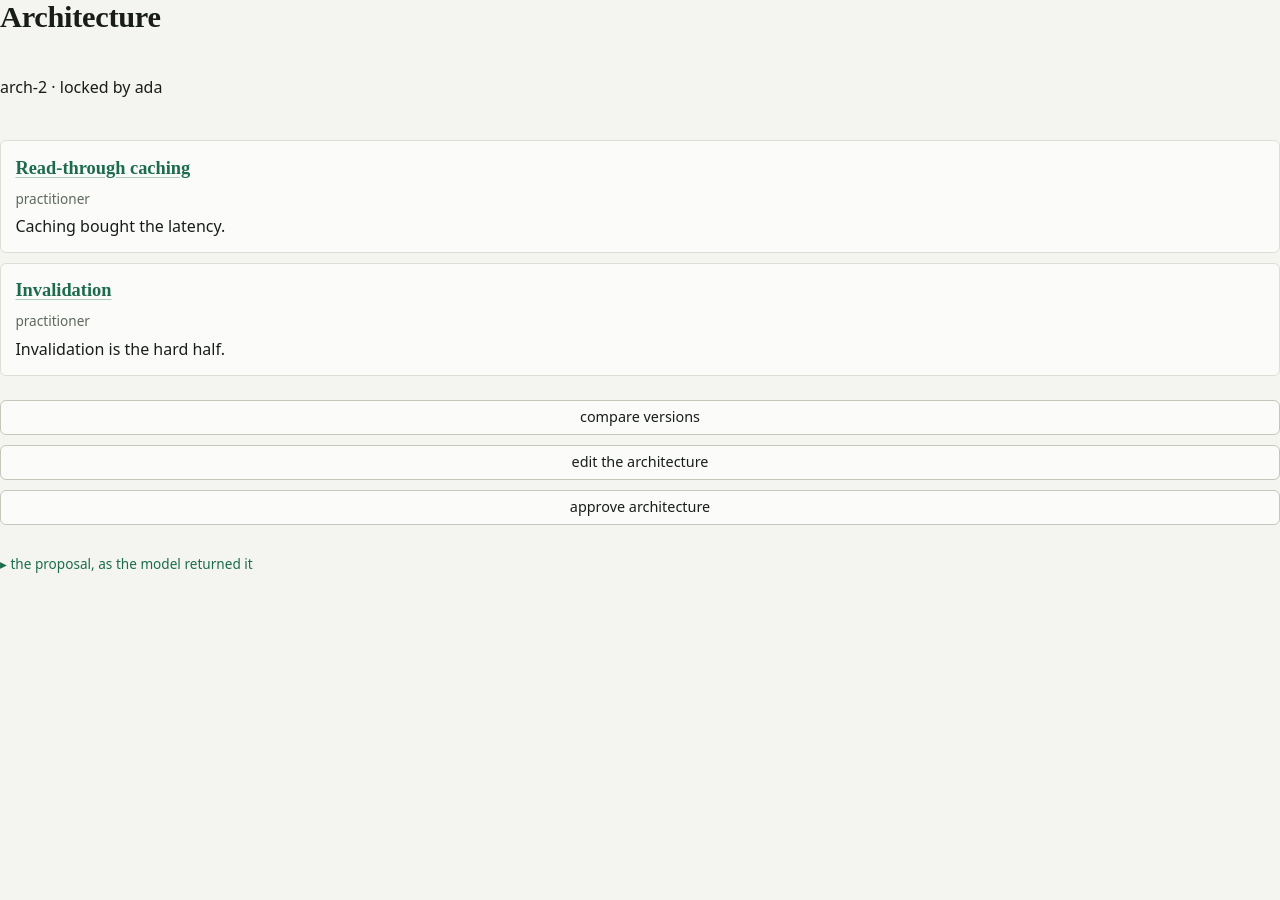
the architecture board › lets an earlier version be compared rather than only listed
Click the button "compare versions": {"x": 640, "y": 417} [0, 400, 1279, 435]
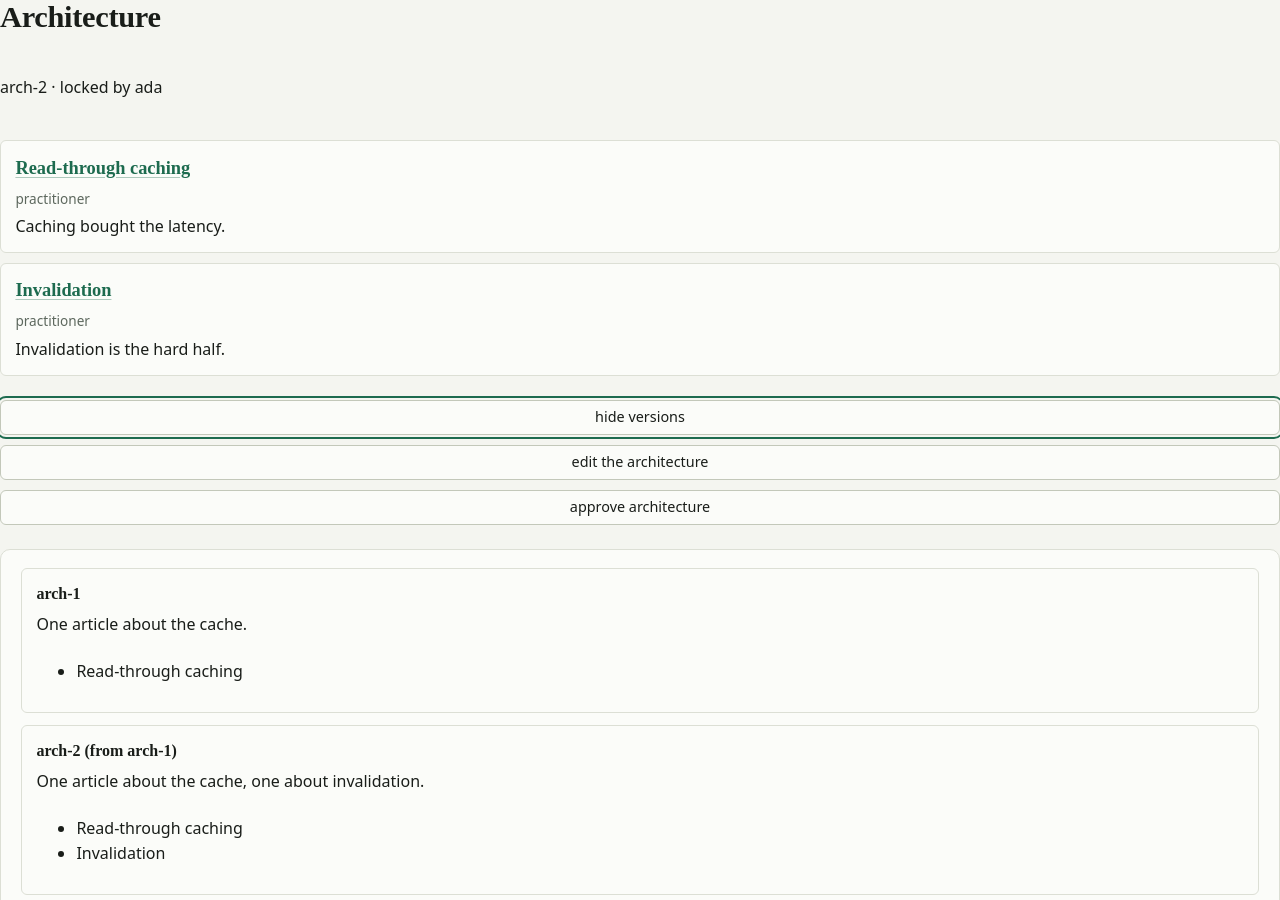
Now the element with test id "version-arch-1" shows "One article about the cache.", box [36, 613, 247, 635]
Now the element with test id "version-arch-2" shows "one about invalidation", box [36, 770, 424, 792]
